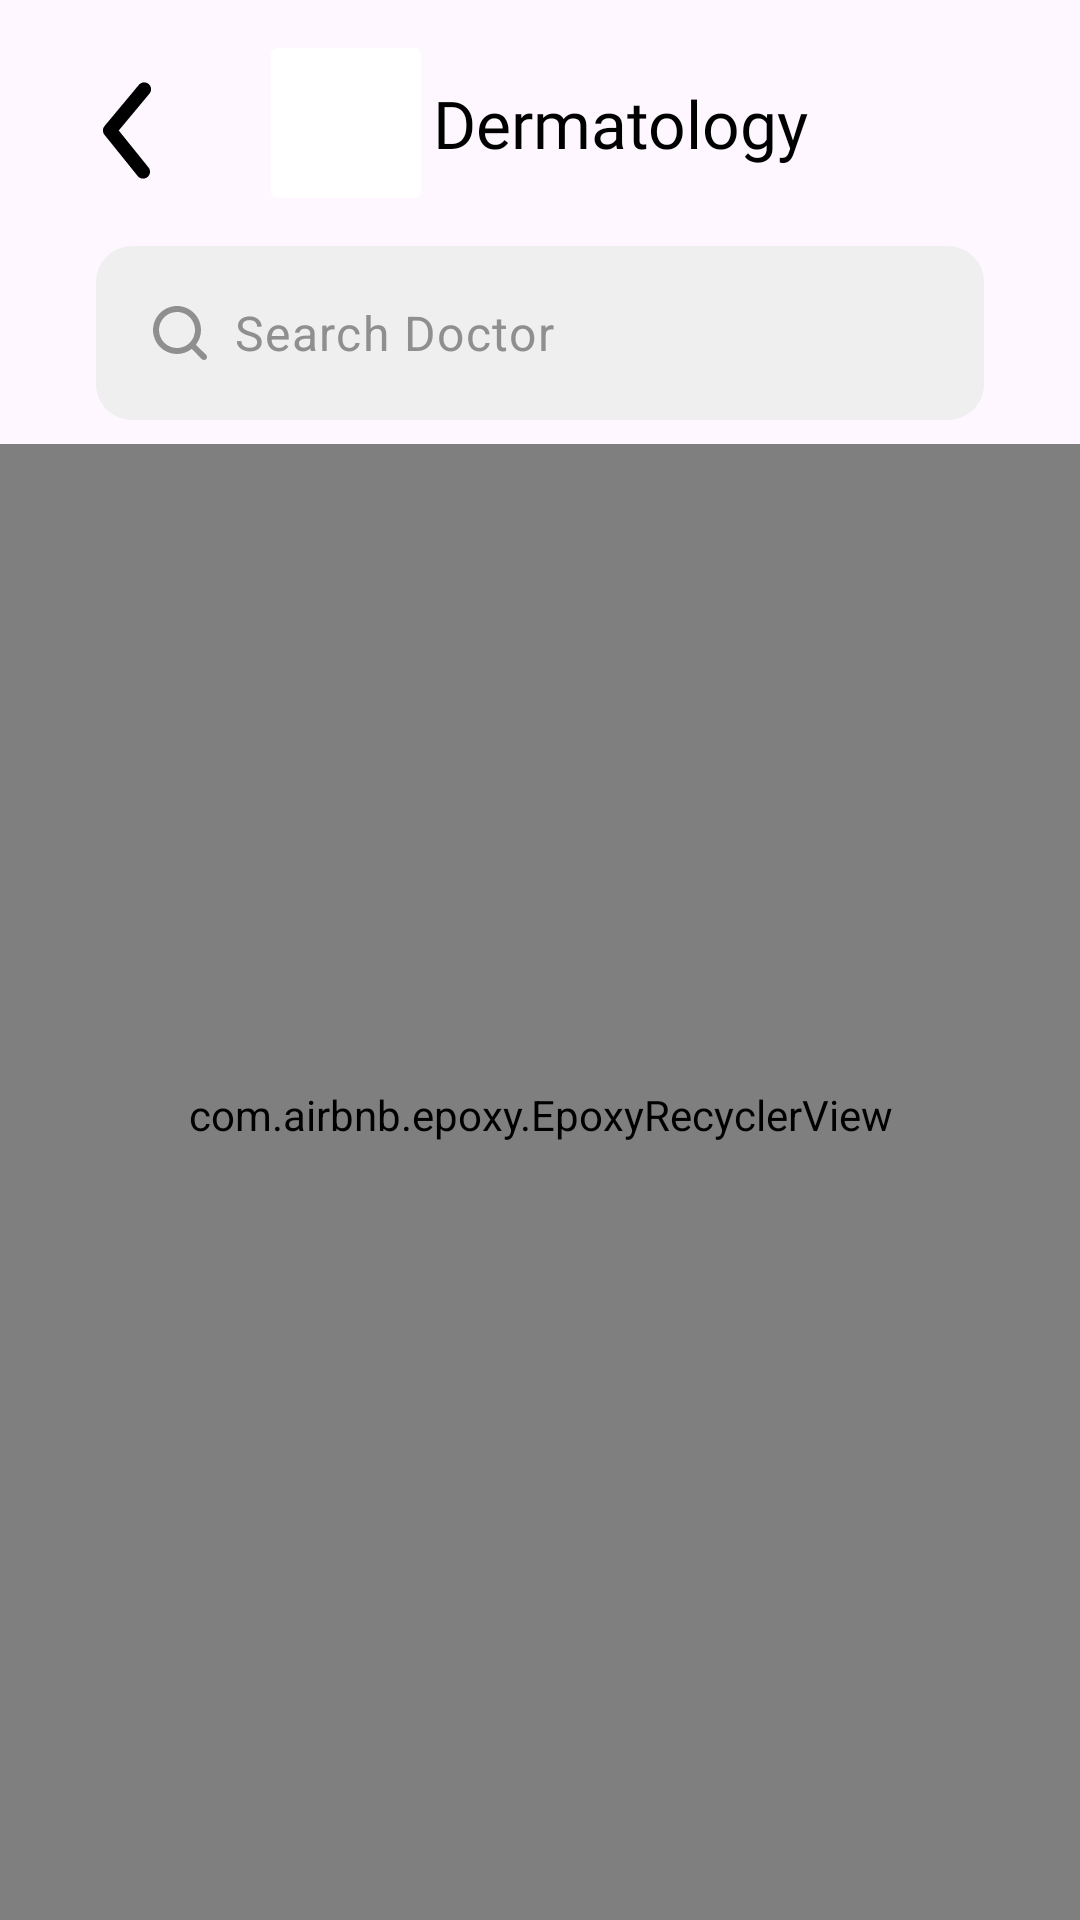

Icons on this 1080w x 1920h Android screen, each with the point to tap as (x=x, y=y):
back arrow: (x=127, y=130)
